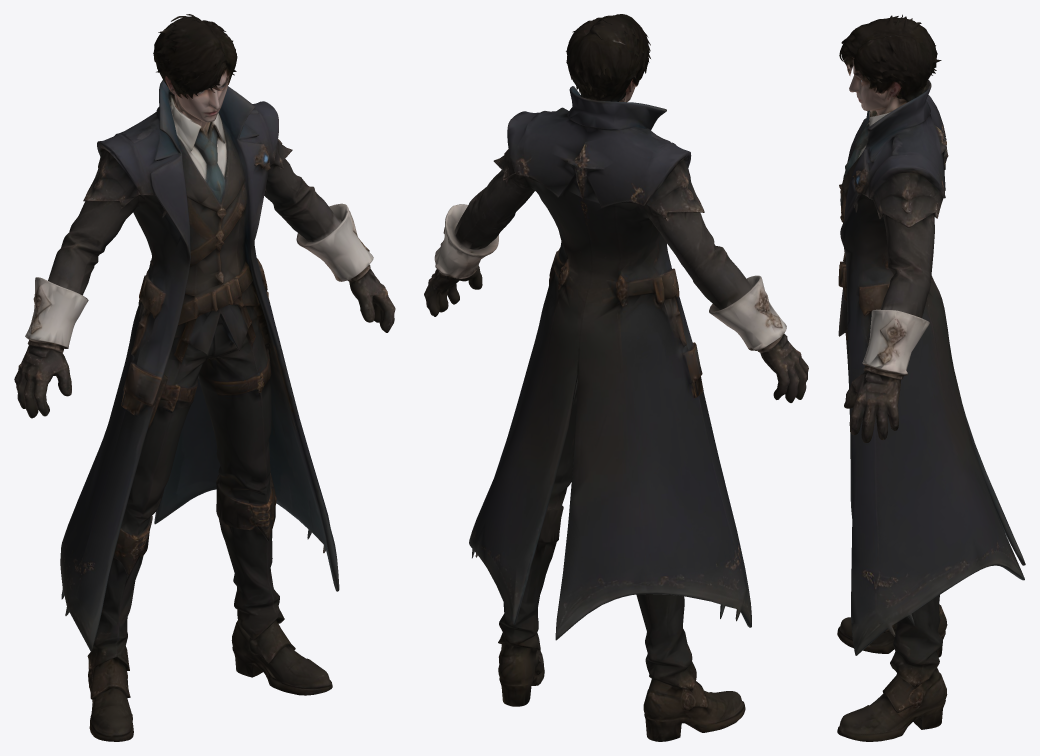
File: sharpshooter.glb
3 renders of one model, left to right at view 1: azimuth 30°, elevation 25°; view 2: azimuth 150°, elevation 25°; view 3: azimuth 270°, elevation 25°, orthographic. The views are drawn at different scales.
Parts seen in each view (by area): view 1: material; view 2: material; view 3: material.
Part boxes in pixels (left/top/right/bottom): material: left=14, top=14, right=395, bottom=741; material: left=424, top=14, right=808, bottom=741; material: left=837, top=14, right=1025, bottom=741.
Bounding box in the file's own units: 0.9938 × 1.76 × 0.4481.
1 material, 1 textured.
